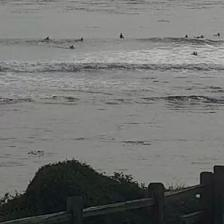surfer: (76, 37, 84, 42), (196, 35, 204, 39), (119, 32, 124, 38), (191, 51, 198, 55), (213, 32, 220, 36), (69, 45, 75, 49), (45, 37, 49, 40), (185, 34, 188, 38)
